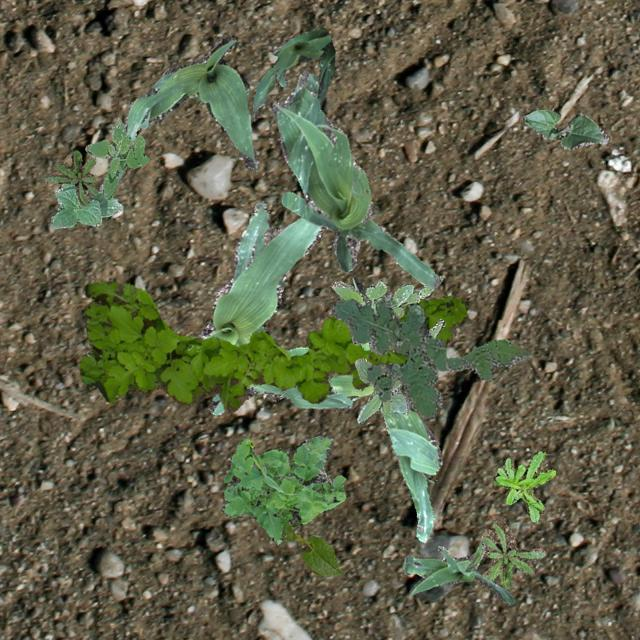crop: (208, 280, 440, 540), (271, 70, 438, 288), (187, 202, 356, 408), (98, 34, 256, 192), (252, 28, 334, 120), (402, 538, 514, 604), (522, 106, 608, 148), (50, 182, 121, 228), (282, 522, 341, 574)
weed: (78, 280, 466, 412), (332, 298, 530, 418), (220, 434, 344, 544), (330, 280, 444, 338), (84, 116, 148, 198), (480, 516, 544, 588), (492, 450, 556, 520), (354, 358, 408, 422), (44, 150, 98, 204)
